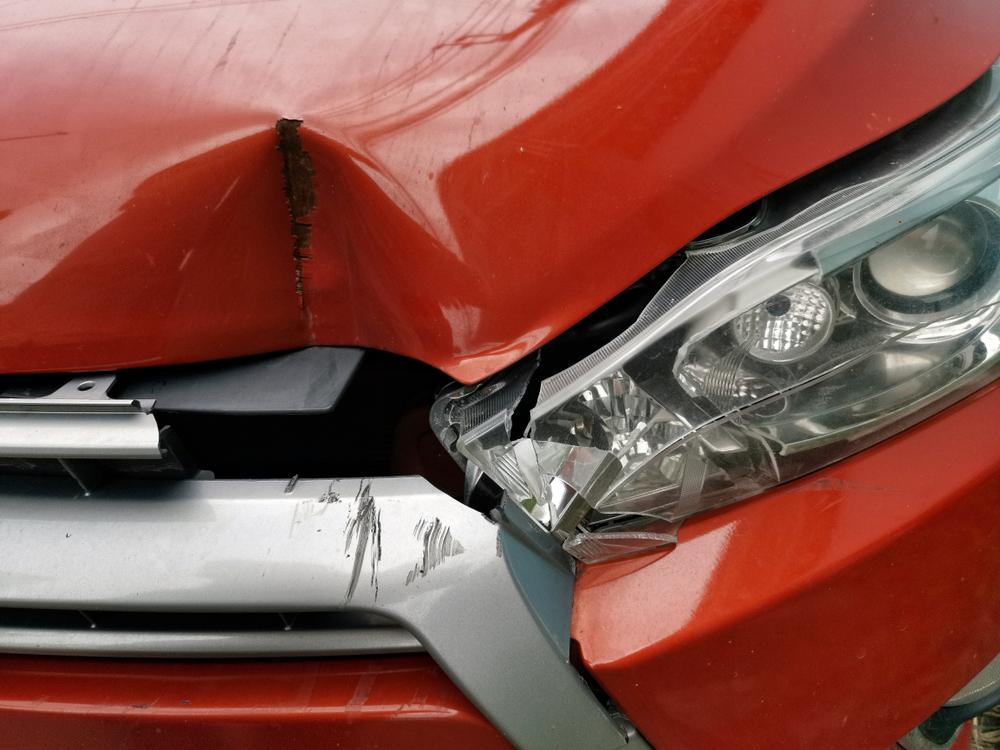dent: (15, 114, 488, 375)
lamp broken: (433, 70, 1000, 562)
scratch: (316, 477, 468, 604)
